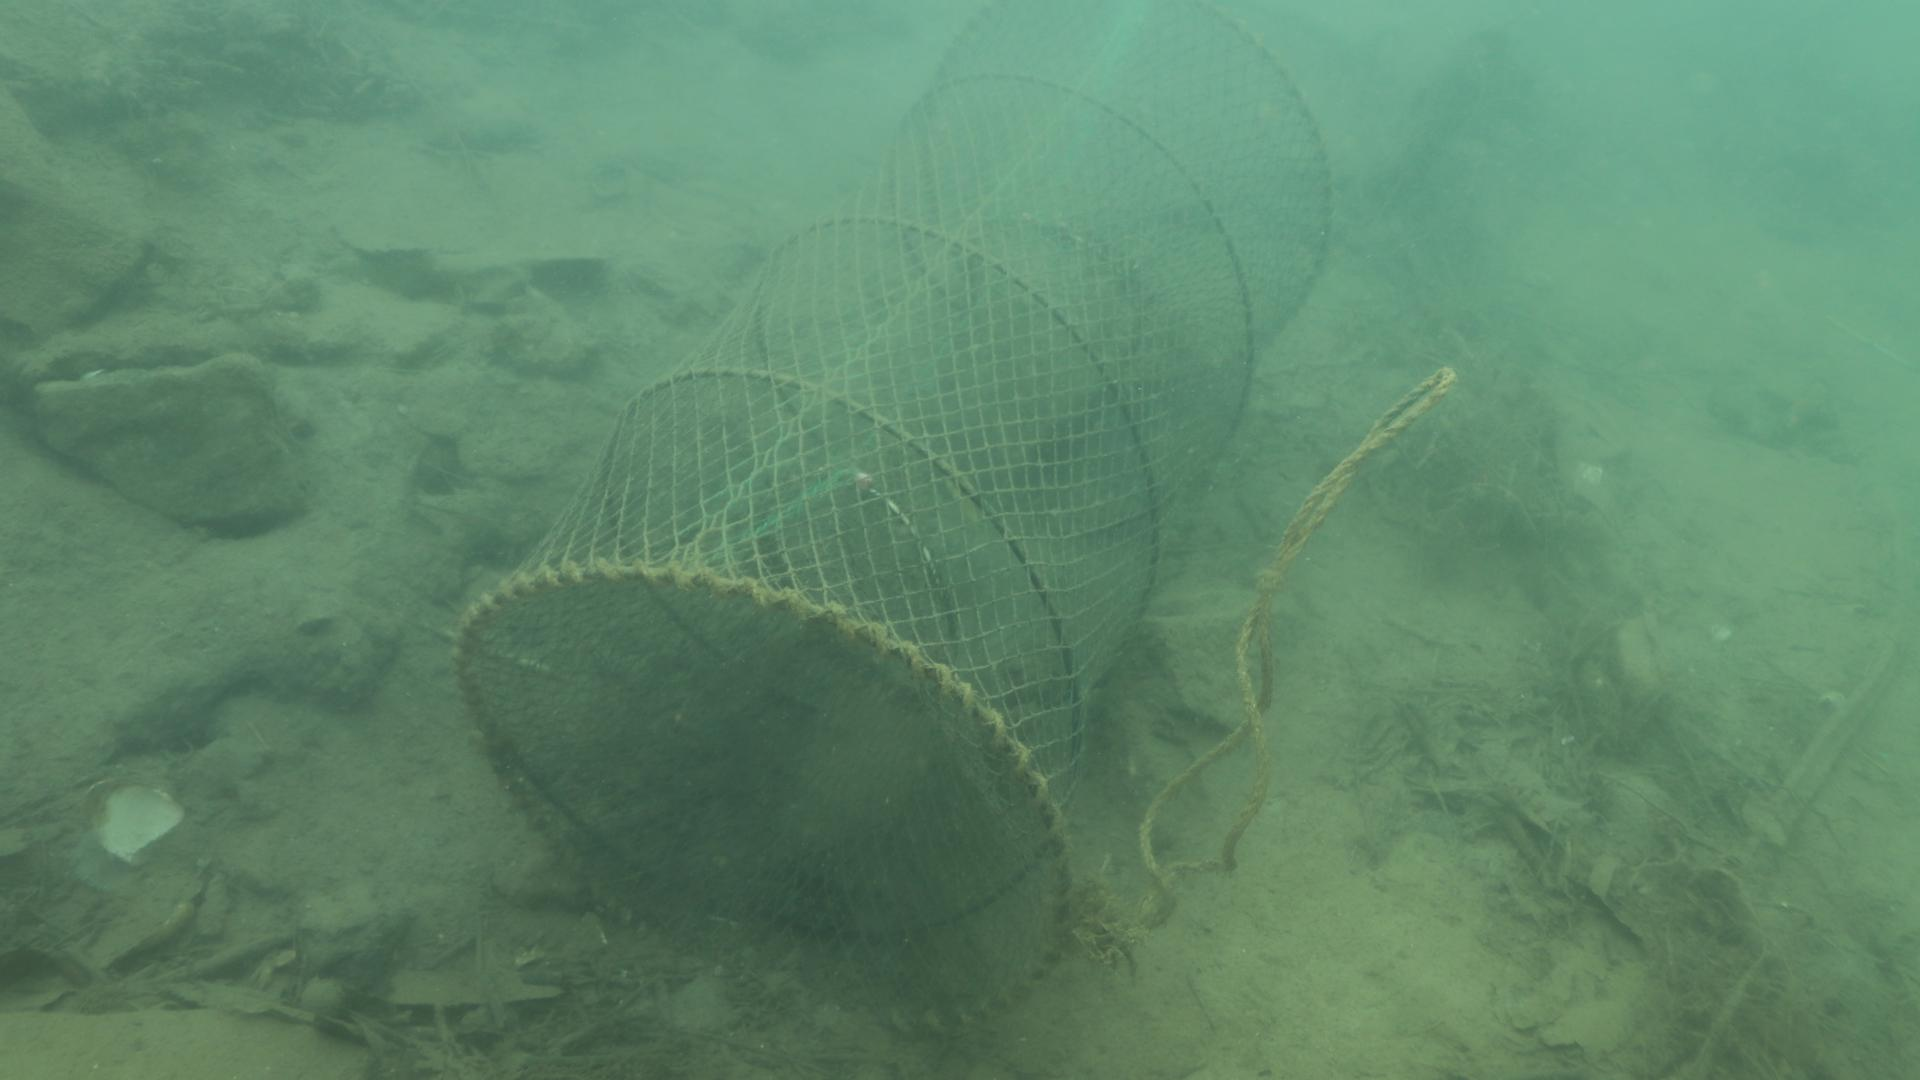bundle of ropes: (1105, 352, 1470, 955)
spring fish trap: (451, 0, 1336, 1033)
